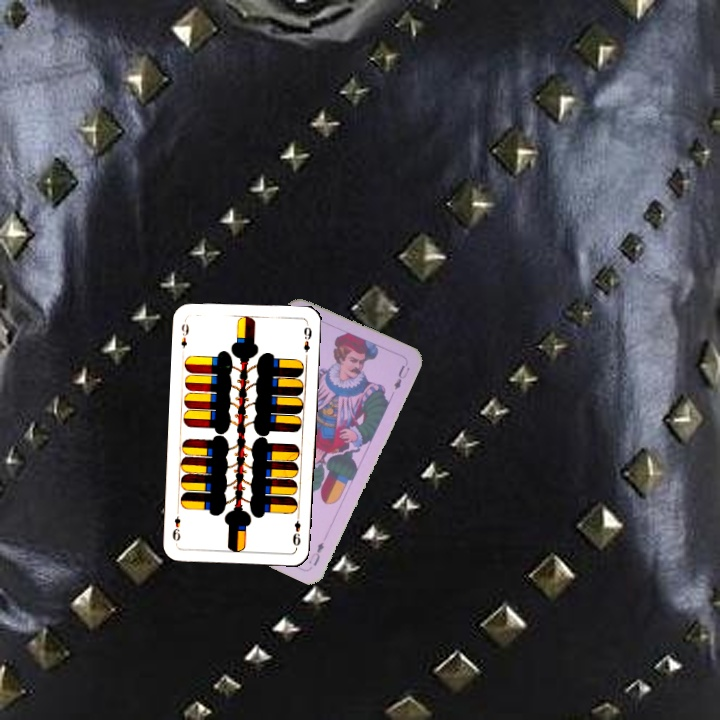E9: (177, 316, 192, 356), (288, 510, 303, 548)
EU: (305, 538, 327, 569)
